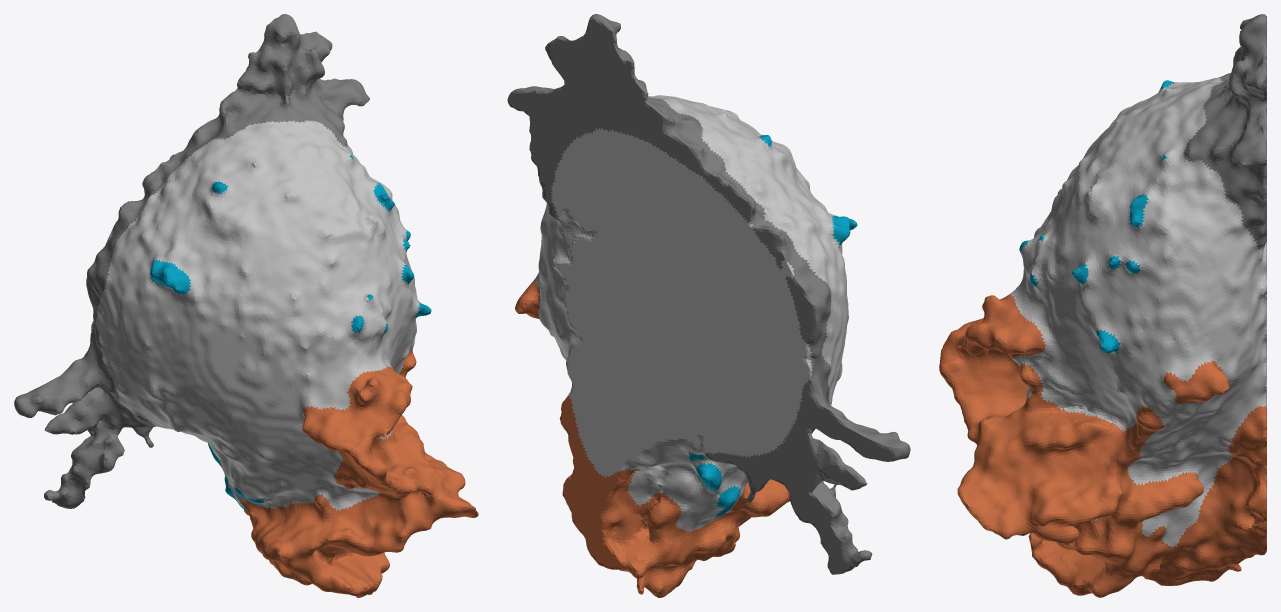
3 views of the same model, side by side, from view 1: azimuth 30°, elevation 25°; view 2: azimuth 150°, elevation 25°; view 3: azimuth 270°, elevation 25° (orthographic). The views are drawn at different scales.
Size of the model in its own units: 121 by 167 by 84.94.
